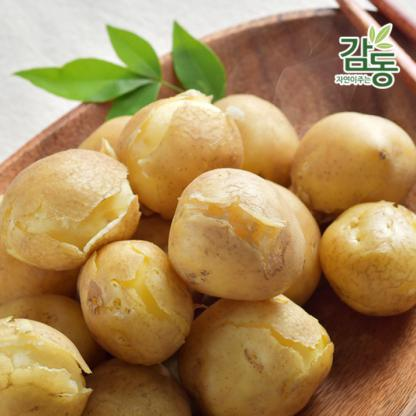potato: (176, 273, 376, 415), (170, 159, 315, 308), (0, 140, 159, 260), (61, 224, 192, 355), (304, 200, 416, 346), (292, 101, 416, 202), (137, 79, 229, 213), (0, 307, 108, 415)
